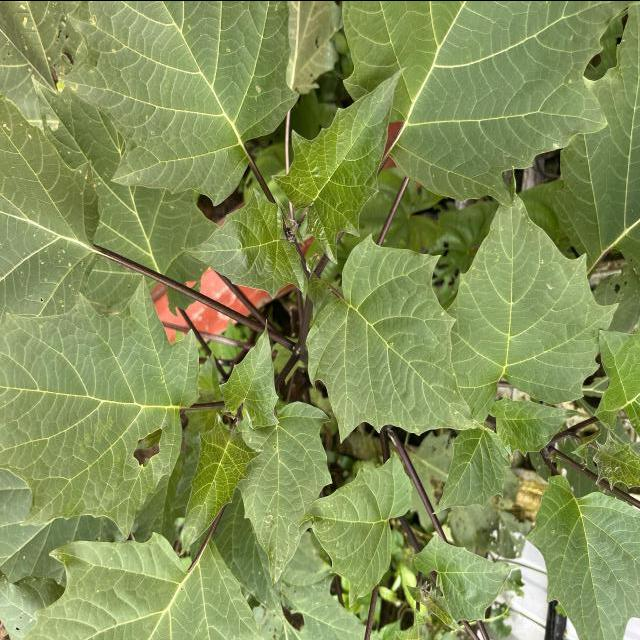Datura metal linn: (0, 274, 203, 544), (442, 160, 620, 427), (303, 229, 497, 446), (268, 62, 410, 267), (296, 446, 416, 608), (178, 184, 308, 301), (176, 408, 270, 558), (430, 426, 514, 516), (216, 316, 282, 430), (490, 392, 586, 458)
